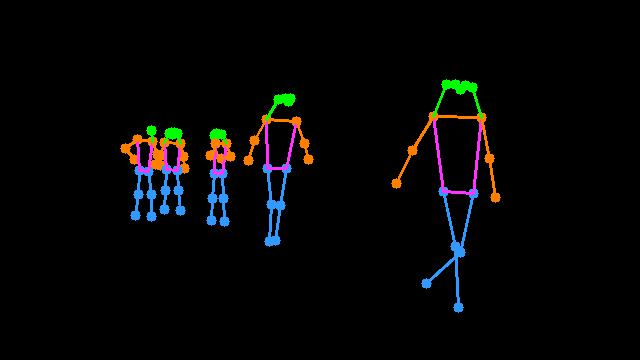normal: (378, 57, 513, 327), (235, 77, 322, 256), (114, 116, 198, 230), (194, 124, 239, 240)
